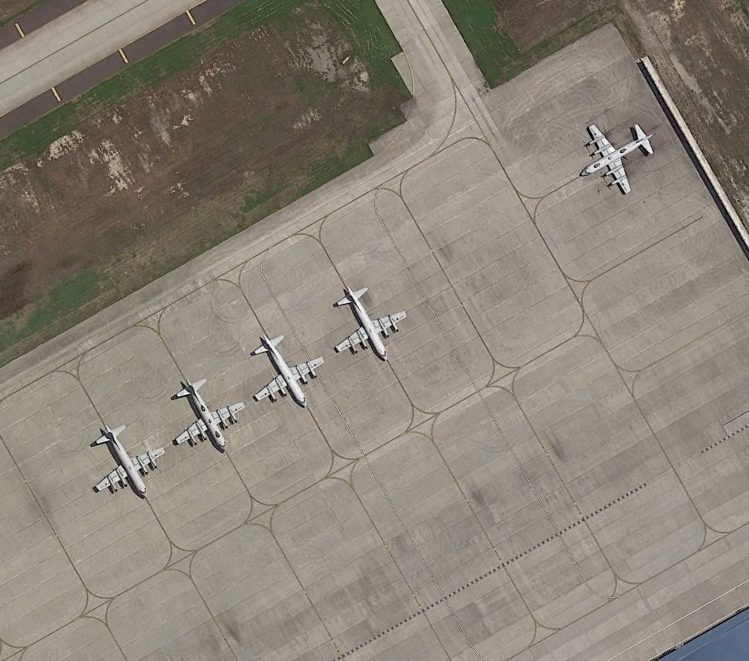A9: (574, 114, 671, 197), (332, 274, 417, 362), (171, 366, 247, 454), (89, 410, 165, 498), (251, 319, 325, 408)
